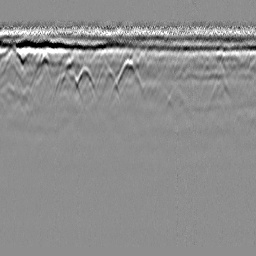cavity: (110, 56, 145, 99)
